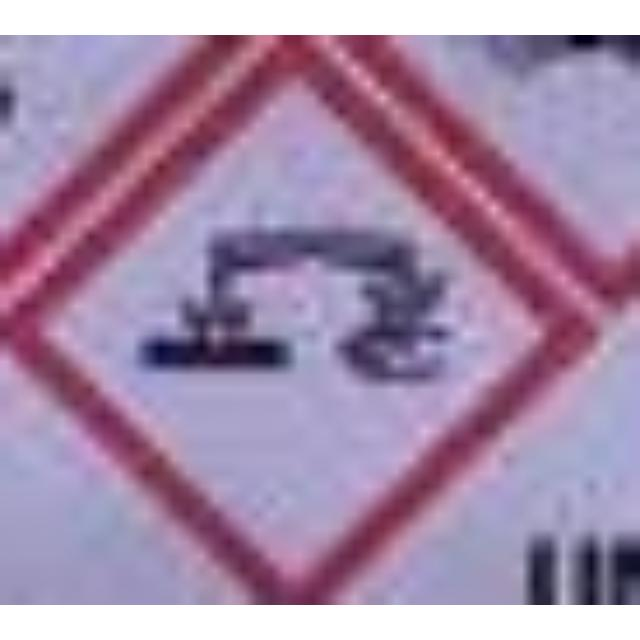corrosive: (0, 35, 584, 591)
